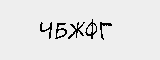Б: (54, 20, 70, 41)
Г: (98, 19, 111, 41)
Ж: (68, 20, 85, 42)
Ф: (84, 18, 98, 42)
Ч: (36, 22, 53, 41)
